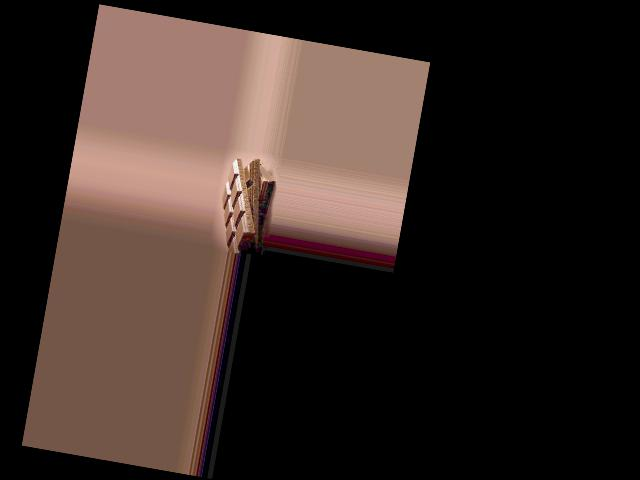chocolate: (214, 154, 272, 254)
